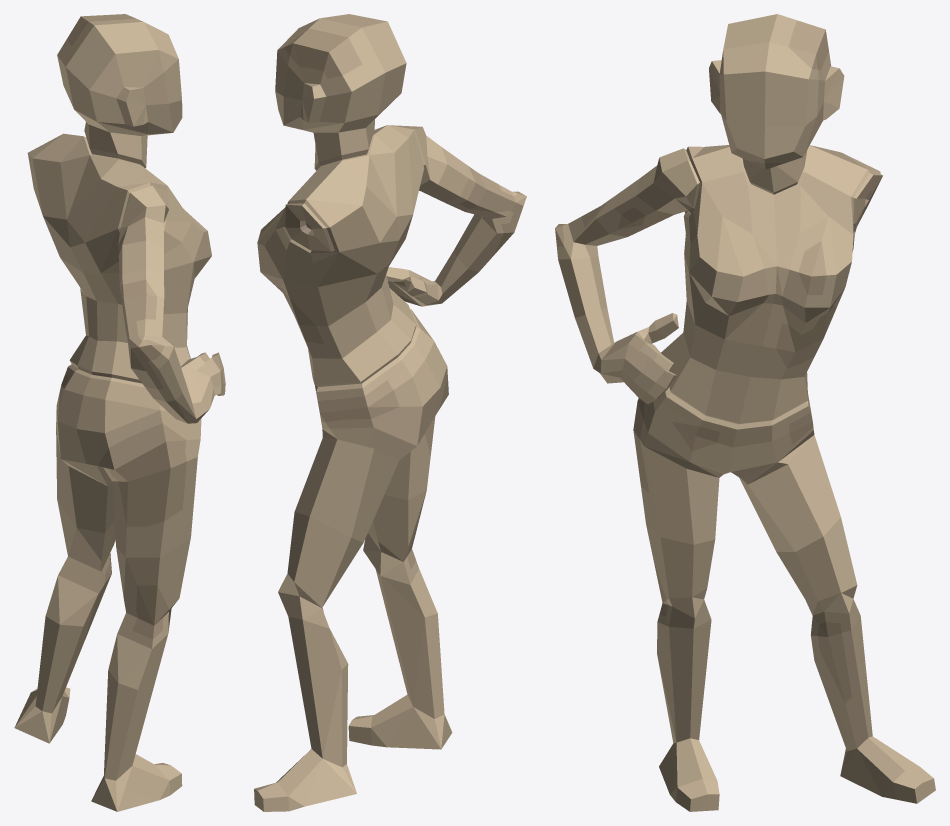
Rendered from apoc_SM_Prop_Mannequin_Female_05.gltf.
3 views of the same model, side by side, from view 1: azimuth 30°, elevation 25°; view 2: azimuth 150°, elevation 25°; view 3: azimuth 270°, elevation 25° (orthographic). The views are drawn at different scales.
Visible parts, largest first — view 1: SM_Prop_Mannequin_Female_05; view 2: SM_Prop_Mannequin_Female_05; view 3: SM_Prop_Mannequin_Female_05.
Part boxes in pixels (left/top/right/bottom): SM_Prop_Mannequin_Female_05: left=14, top=14, right=225, bottom=811; SM_Prop_Mannequin_Female_05: left=254, top=14, right=526, bottom=811; SM_Prop_Mannequin_Female_05: left=555, top=14, right=935, bottom=811.
Size of the model in its own units: 0.3758 by 1.77 by 0.7869.
Materials: 1 (1 with a texture image).
